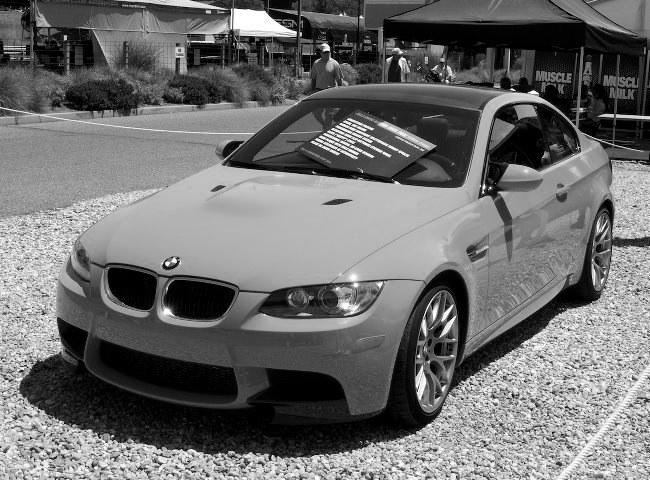car: (59, 85, 614, 428)
